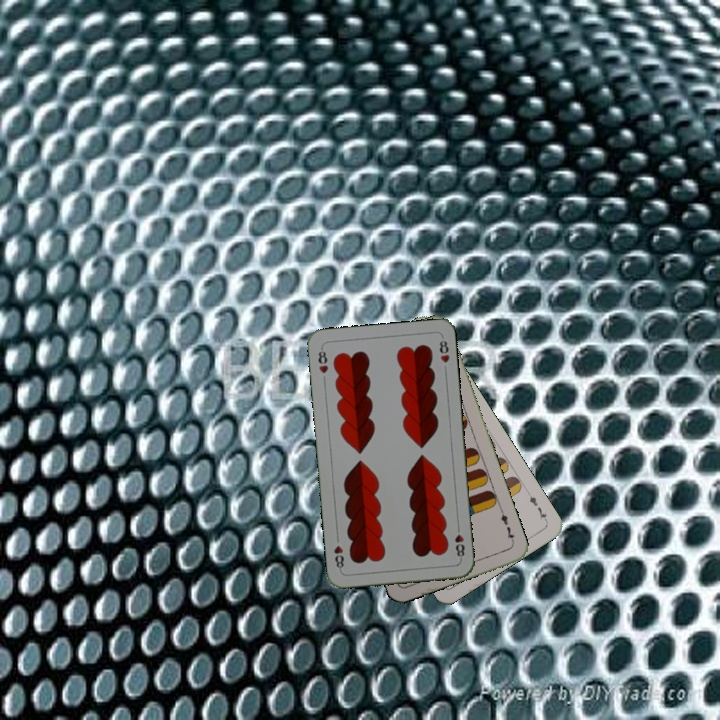E7: (524, 488, 550, 524), (496, 507, 517, 546)
H8: (451, 521, 467, 562), (314, 344, 331, 376)
